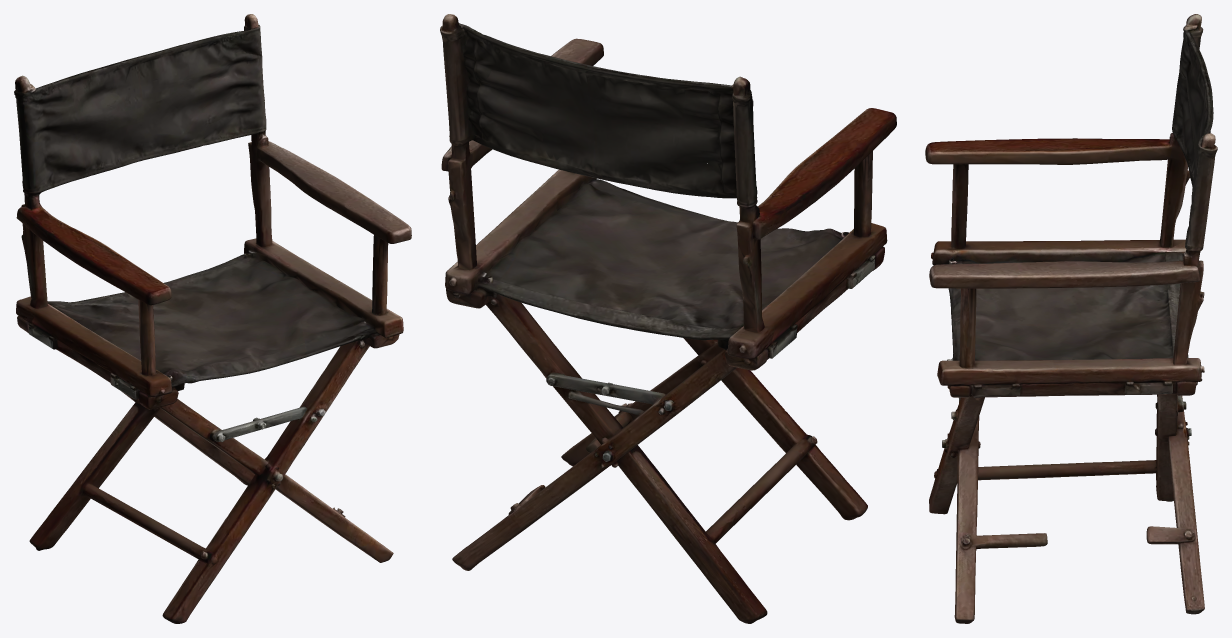
Rendered from directors-chair.glb.
3 views of the same model, side by side, from view 1: azimuth 30°, elevation 25°; view 2: azimuth 150°, elevation 25°; view 3: azimuth 270°, elevation 25° (orthographic). The views are drawn at different scales.
Visible parts, largest first — view 1: node_5dc624e3-baf2-403a-b8a5-ca719bd8f171; view 2: node_5dc624e3-baf2-403a-b8a5-ca719bd8f171; view 3: node_5dc624e3-baf2-403a-b8a5-ca719bd8f171.
Boxes of the visible parts, bbox=[...] form: node_5dc624e3-baf2-403a-b8a5-ca719bd8f171: bbox=[14, 14, 411, 623]; node_5dc624e3-baf2-403a-b8a5-ca719bd8f171: bbox=[440, 14, 896, 623]; node_5dc624e3-baf2-403a-b8a5-ca719bd8f171: bbox=[925, 14, 1217, 623].
Size of the model in its own units: 0.6141 by 0.9797 by 0.5371.
Materials: 1 (1 with a texture image).
